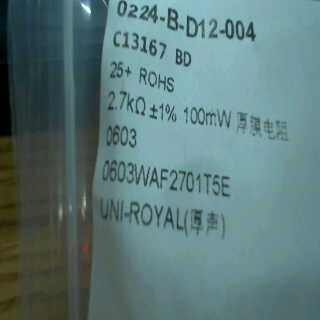2.7kR: (103, 80, 150, 122)
